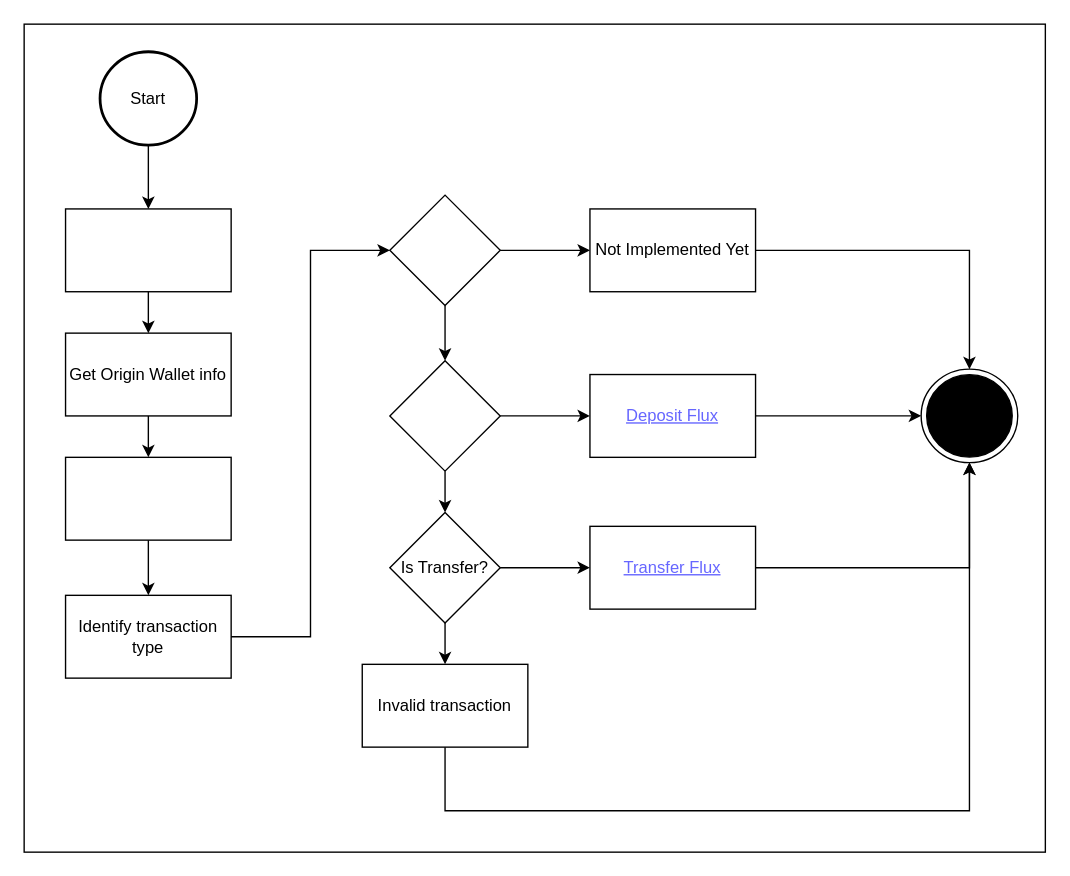
This 1070x876 diagram has some shape labels left out. Each missing label, with the centre of its shape:
"Get Origin User info" belongs at point (147, 498).
"Is Deposit?" belongs at point (444, 415).
"Is Withdraw?" belongs at point (444, 250).
"Receive transaction request" belongs at point (147, 250).
